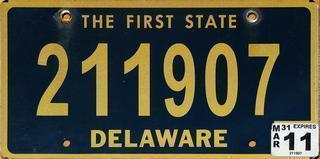placa de veiculo: (4, 3, 312, 159)
